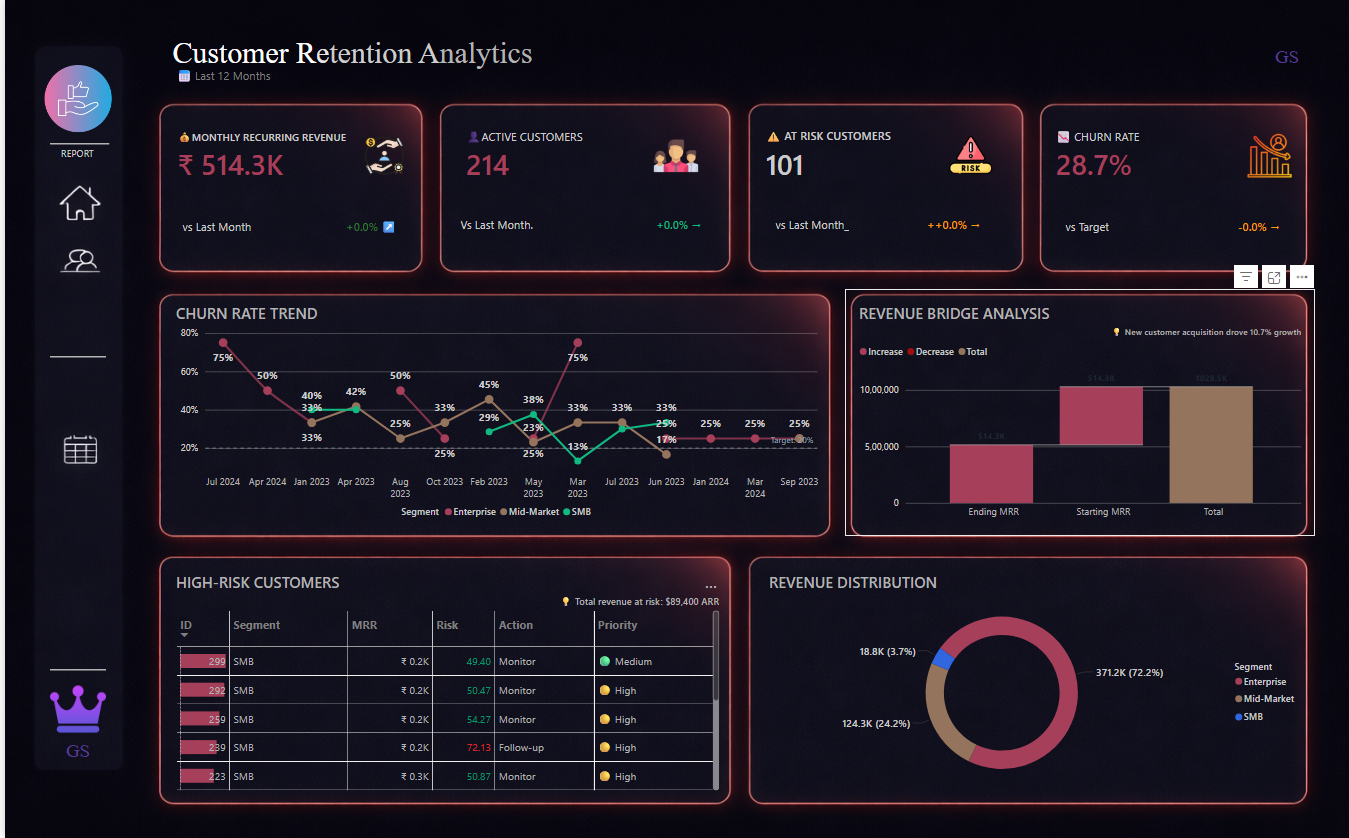

The page's visual inventory and layout, read from the dashboard file:
{"tool":"powerbi","page":{"name":"🏠 Overview","canvas":[1920,1200],"ordinal":0},"visuals":[{"type":"lineChart","title":"CHURN RATE TREND","fields":{"Category":["DateTable.MonthYear"],"Series":["customers.Segment"],"Y":["_Measures.Churn Rate"]},"box":[224,416,960,352],"z":0},{"type":"tableEx","title":"HIGH-RISK CUSTOMERS                                                                                                                                               🔴 Alert","fields":{"Values":["customers.CustomerID","customers.Segment","Sum(subscriptions.mrr)","_Measures.Risk Score","_Measures.Recommended Action","_Measures.Priority Status"]},"box":[224,800,816,352],"z":1000},{"type":"donutChart","title":"REVENUE DISTRIBUTION","fields":{"Category":["customers.Segment"],"Y":["_Measures.Total MRR"]},"box":[1072,800,800,352],"z":2000},{"type":"waterfallChart","title":"REVENUE BRIDGE ANALYSIS","fields":{"Category":["MRR Bridge Table.Category"],"Y":["MRR Bridge Table.MRR Bridge Values"]},"box":[1200,416,672,352],"z":3000},{"type":"cardVisual","fields":{"Data":["_Measures.At Risk Customers"]},"box":[1056,144,400,288],"z":4000},{"type":"cardVisual","fields":{"Data":["_Measures.Churn Rate %"]},"box":[1470,144,400,288],"z":5000},{"type":"cardVisual","fields":{"Data":["_Measures.Active Customers"]},"box":[608,144,432,288],"z":6000},{"type":"cardVisual","fields":{"Data":["_Measures.Total MRR"]},"box":[208,144,400,288],"z":7000},{"type":"image","box":[48,96,112,96],"z":8000},{"type":"actionButton","title":"show","box":[80,624,48,48],"z":9000},{"type":"actionButton","box":[75,352,64,48],"z":12000},{"type":"image","box":[64,976,80,80],"z":13000},{"type":"textbox","box":[64,1056,80,48],"z":14000},{"type":"shape","box":[64,144,85,128],"z":15000},{"type":"textbox","box":[32,208,144,64],"z":16000},{"type":"shape","box":[64,896,80,128],"z":17000},{"type":"shape","box":[64,448,80,128],"z":18000},{"type":"textbox","box":[224,48,544,64],"z":19000},{"type":"textbox","box":[240,96,256,144],"z":20000},{"type":"textbox","box":[1792,64,80,48],"z":21000}]}

Visuals, with their boxes on the page's 1920x1200 design canvas (x1, y1, x2, y2). These are canvas units, not pixel positions in the 1349x838 screenshot, which may show the page scaled, cropped or inside an application window:
"CHURN RATE TREND" lineChart: box(224, 416, 1184, 768)
"HIGH-RISK CUSTOMERS                                                                                                                                               🔴 Alert" tableEx: box(224, 800, 1040, 1152)
"REVENUE DISTRIBUTION" donutChart: box(1072, 800, 1872, 1152)
"REVENUE BRIDGE ANALYSIS" waterfallChart: box(1200, 416, 1872, 768)
cardVisual - _Measures.At Risk Customers: box(1056, 144, 1456, 432)
cardVisual - _Measures.Churn Rate %: box(1470, 144, 1870, 432)
cardVisual - _Measures.Active Customers: box(608, 144, 1040, 432)
cardVisual - _Measures.Total MRR: box(208, 144, 608, 432)
image: box(48, 96, 160, 192)
"show" actionButton: box(80, 624, 128, 672)
actionButton: box(75, 352, 139, 400)
image: box(64, 976, 144, 1056)
textbox: box(64, 1056, 144, 1104)
shape: box(64, 144, 149, 272)
textbox: box(32, 208, 176, 272)
shape: box(64, 896, 144, 1024)
shape: box(64, 448, 144, 576)
textbox: box(224, 48, 768, 112)
textbox: box(240, 96, 496, 240)
textbox: box(1792, 64, 1872, 112)
